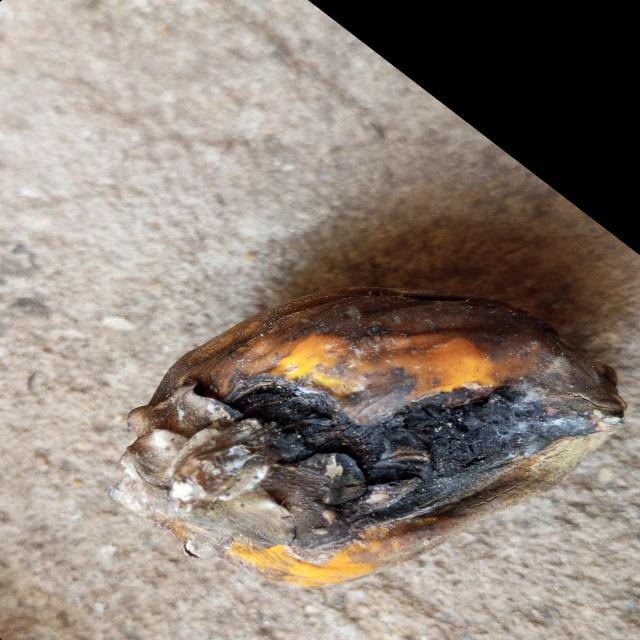damaged: (115, 288, 623, 590)
